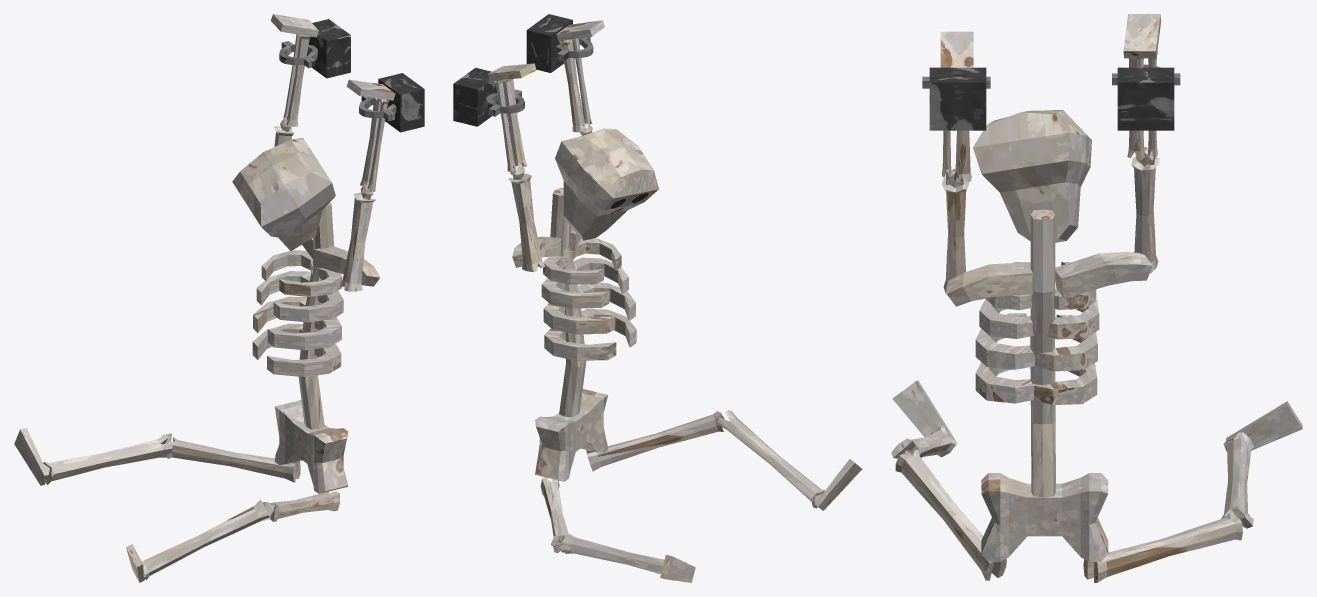
Rendered from skeleton_sit_menottes.fbx.
3 views of the same model, side by side, from view 1: azimuth 30°, elevation 25°; view 2: azimuth 150°, elevation 25°; view 3: azimuth 270°, elevation 25° (orthographic). The views are drawn at different scales.
Parts seen in each view (by area): view 1: Cube.063, holder_meno, holder_men; view 2: Cube.063, holder_meno, holder_men; view 3: Cube.063, holder_men, holder_meno.
Part boxes in pixels (bbox=[...]): Cube.063: bbox=[14, 14, 395, 582]; holder_meno: bbox=[306, 19, 350, 78]; holder_men: bbox=[378, 73, 424, 132]; Cube.063: bbox=[488, 20, 862, 582]; holder_meno: bbox=[453, 67, 499, 126]; holder_men: bbox=[526, 14, 572, 72]; Cube.063: bbox=[891, 14, 1302, 582]; holder_men: bbox=[929, 67, 986, 130]; holder_meno: bbox=[1117, 67, 1174, 130].
Bounding box in the file's own units: 1311 × 1869 × 1207.
2 materials, 2 textured.
